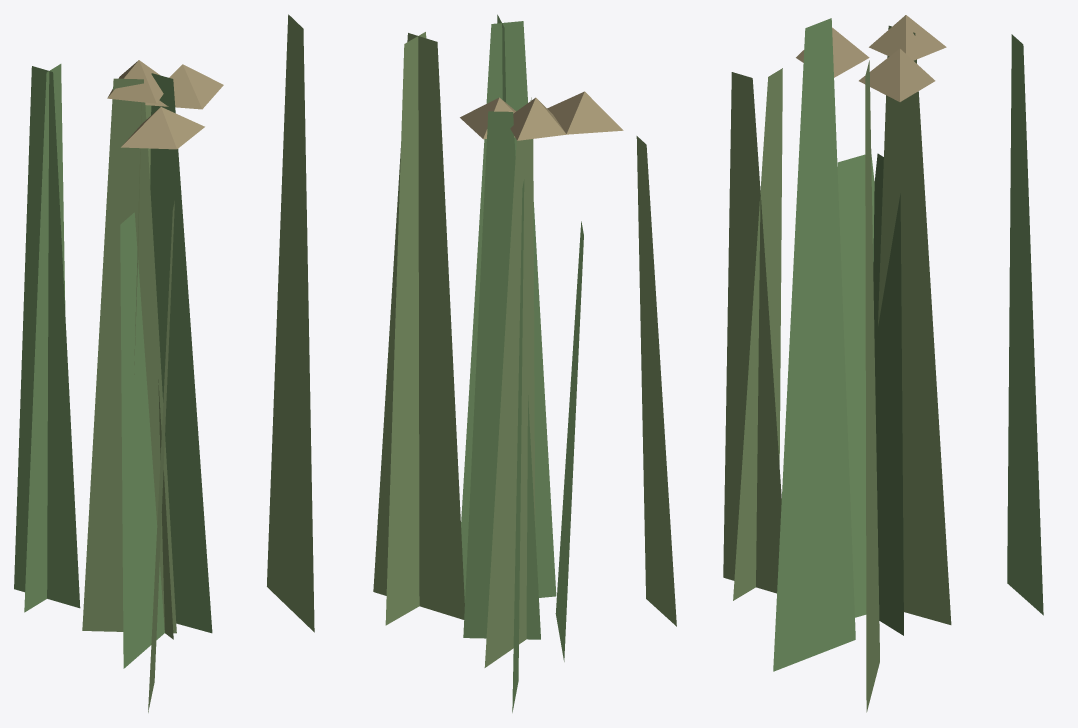
File: shrub.sub.reed_clump__summer.glb
3 views of the same model, side by side, from view 1: azimuth 30°, elevation 25°; view 2: azimuth 150°, elevation 25°; view 3: azimuth 270°, elevation 25° (orthographic). The views are drawn at different scales.
Parts seen in each view (by area): view 1: shrub.sub.reed_clump__summer; view 2: shrub.sub.reed_clump__summer; view 3: shrub.sub.reed_clump__summer.
Boxes of the visible parts, box(x1,y1,x2,y2) form: shrub.sub.reed_clump__summer: box(14, 14, 314, 712); shrub.sub.reed_clump__summer: box(373, 14, 676, 712); shrub.sub.reed_clump__summer: box(723, 15, 1043, 712).
Bounding box in the file's own units: 0.9425 × 1.99 × 0.9655.
